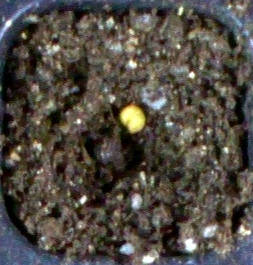pepper seed: (46, 35, 193, 172)
